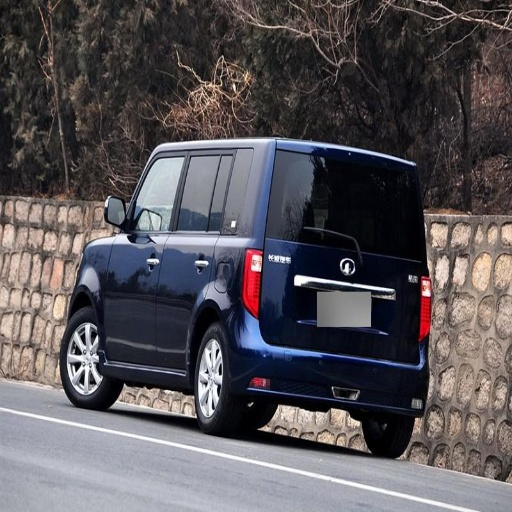back_bumper: (237, 321, 428, 412)
back_glass: (307, 178, 362, 222)
back_left_door: (157, 153, 219, 369)
trunk: (212, 241, 416, 379)
